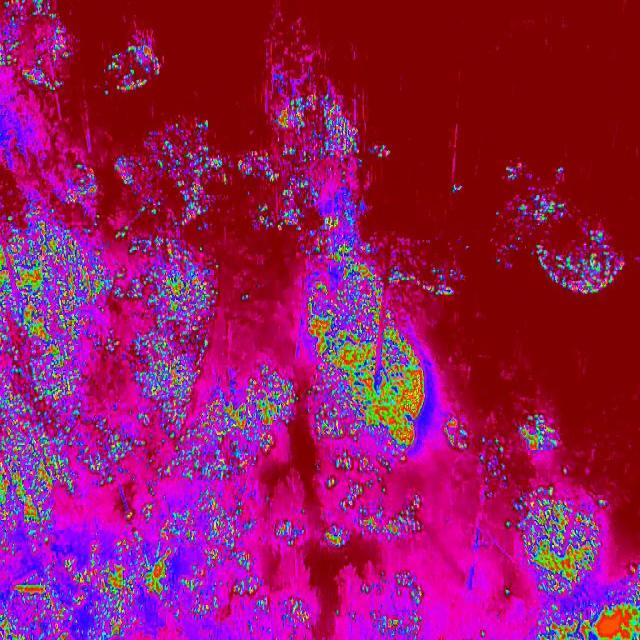fire: (0, 114, 228, 640), (305, 236, 444, 552), (238, 71, 402, 234), (229, 357, 304, 640), (498, 162, 626, 296), (514, 484, 606, 590), (2, 0, 76, 98), (538, 570, 640, 640), (358, 566, 428, 640), (446, 412, 506, 493), (104, 38, 164, 98), (512, 412, 560, 458)
